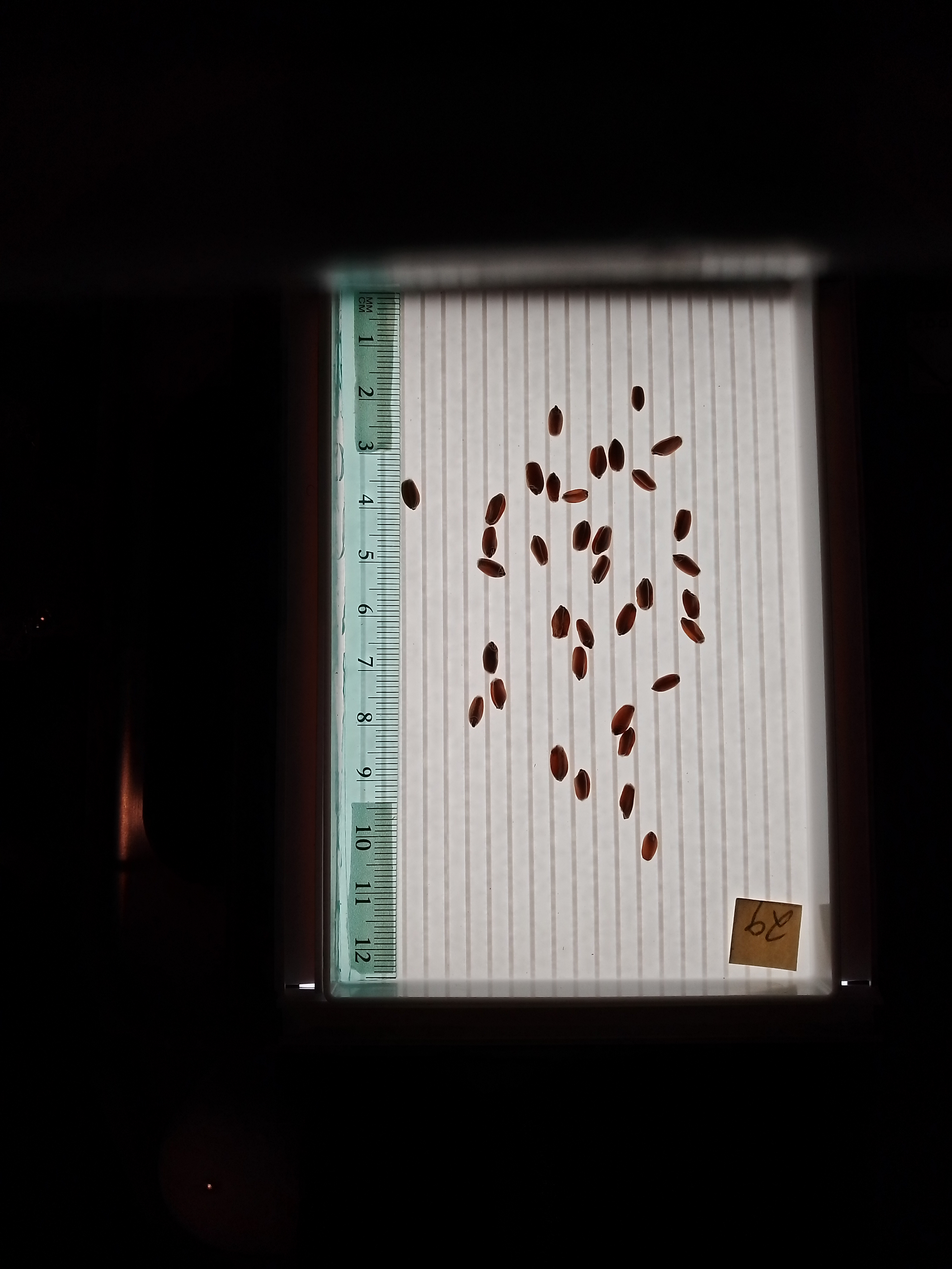seed mask: (611, 705, 634, 736), (486, 494, 506, 525), (652, 436, 682, 456), (551, 746, 568, 781), (401, 479, 420, 510), (572, 521, 591, 552), (617, 604, 636, 635), (477, 557, 505, 578), (552, 606, 570, 638), (526, 462, 543, 495), (608, 439, 625, 472), (681, 619, 704, 643), (673, 555, 699, 576), (592, 526, 611, 554), (619, 785, 635, 818), (590, 446, 607, 477), (574, 770, 591, 801), (576, 619, 594, 648), (674, 510, 691, 540), (531, 537, 549, 565), (592, 556, 610, 584), (632, 470, 655, 491), (637, 580, 653, 610), (572, 647, 587, 679), (483, 643, 499, 673), (618, 728, 635, 756), (653, 674, 679, 692), (491, 679, 506, 709), (641, 833, 657, 861), (683, 591, 699, 617), (549, 407, 563, 436), (469, 697, 483, 726), (483, 528, 497, 556), (564, 488, 587, 504), (547, 474, 560, 502), (631, 387, 645, 410)
